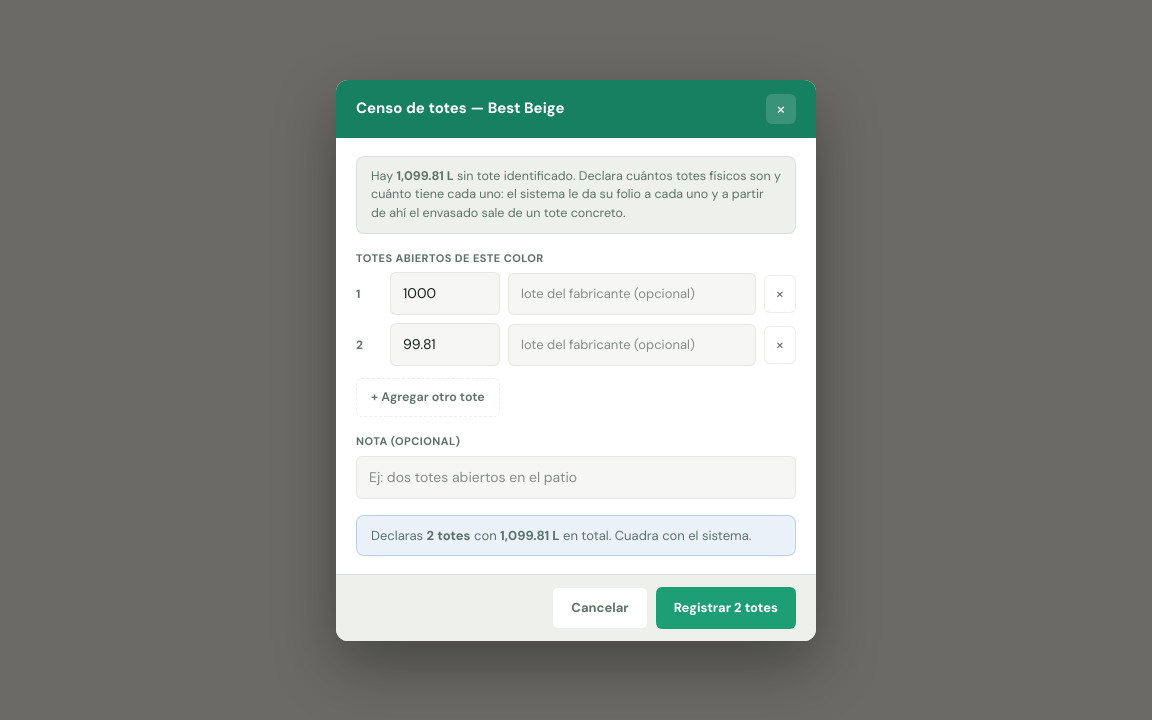
Scenario: CensoTotesModal › un tote de más de 1000 L se rechaza en la propia pantalla
The width and height of the screenshot is (1152, 720).
Clear the 1st number field with placeholder "litros" at point(445, 294), box top-left (390, 272), bottom-right (500, 315)
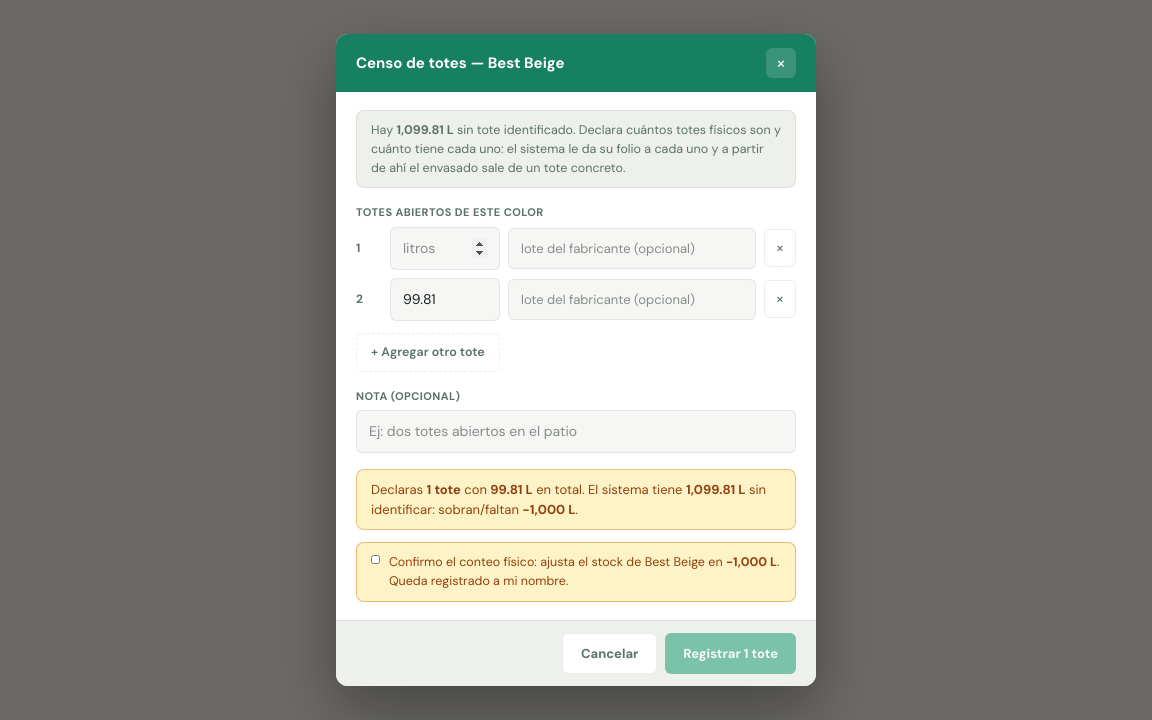
Type "1500" into the number field with placeholder "litros" at point(445, 248), box top-left (390, 227), bottom-right (500, 270)
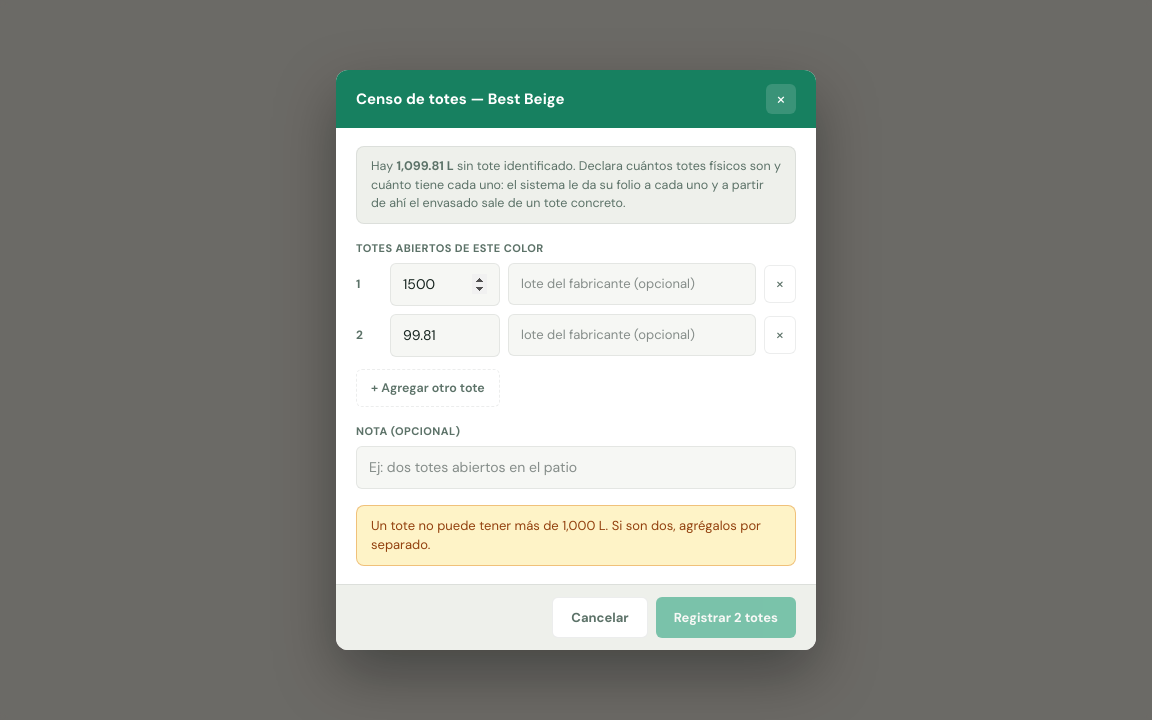
Result: the button "Registrar 2 totes" is disabled at top-left (656, 597), bottom-right (796, 638)
Result: the text "no puede tener más de" is shown at top-left (371, 517), bottom-right (761, 553)
